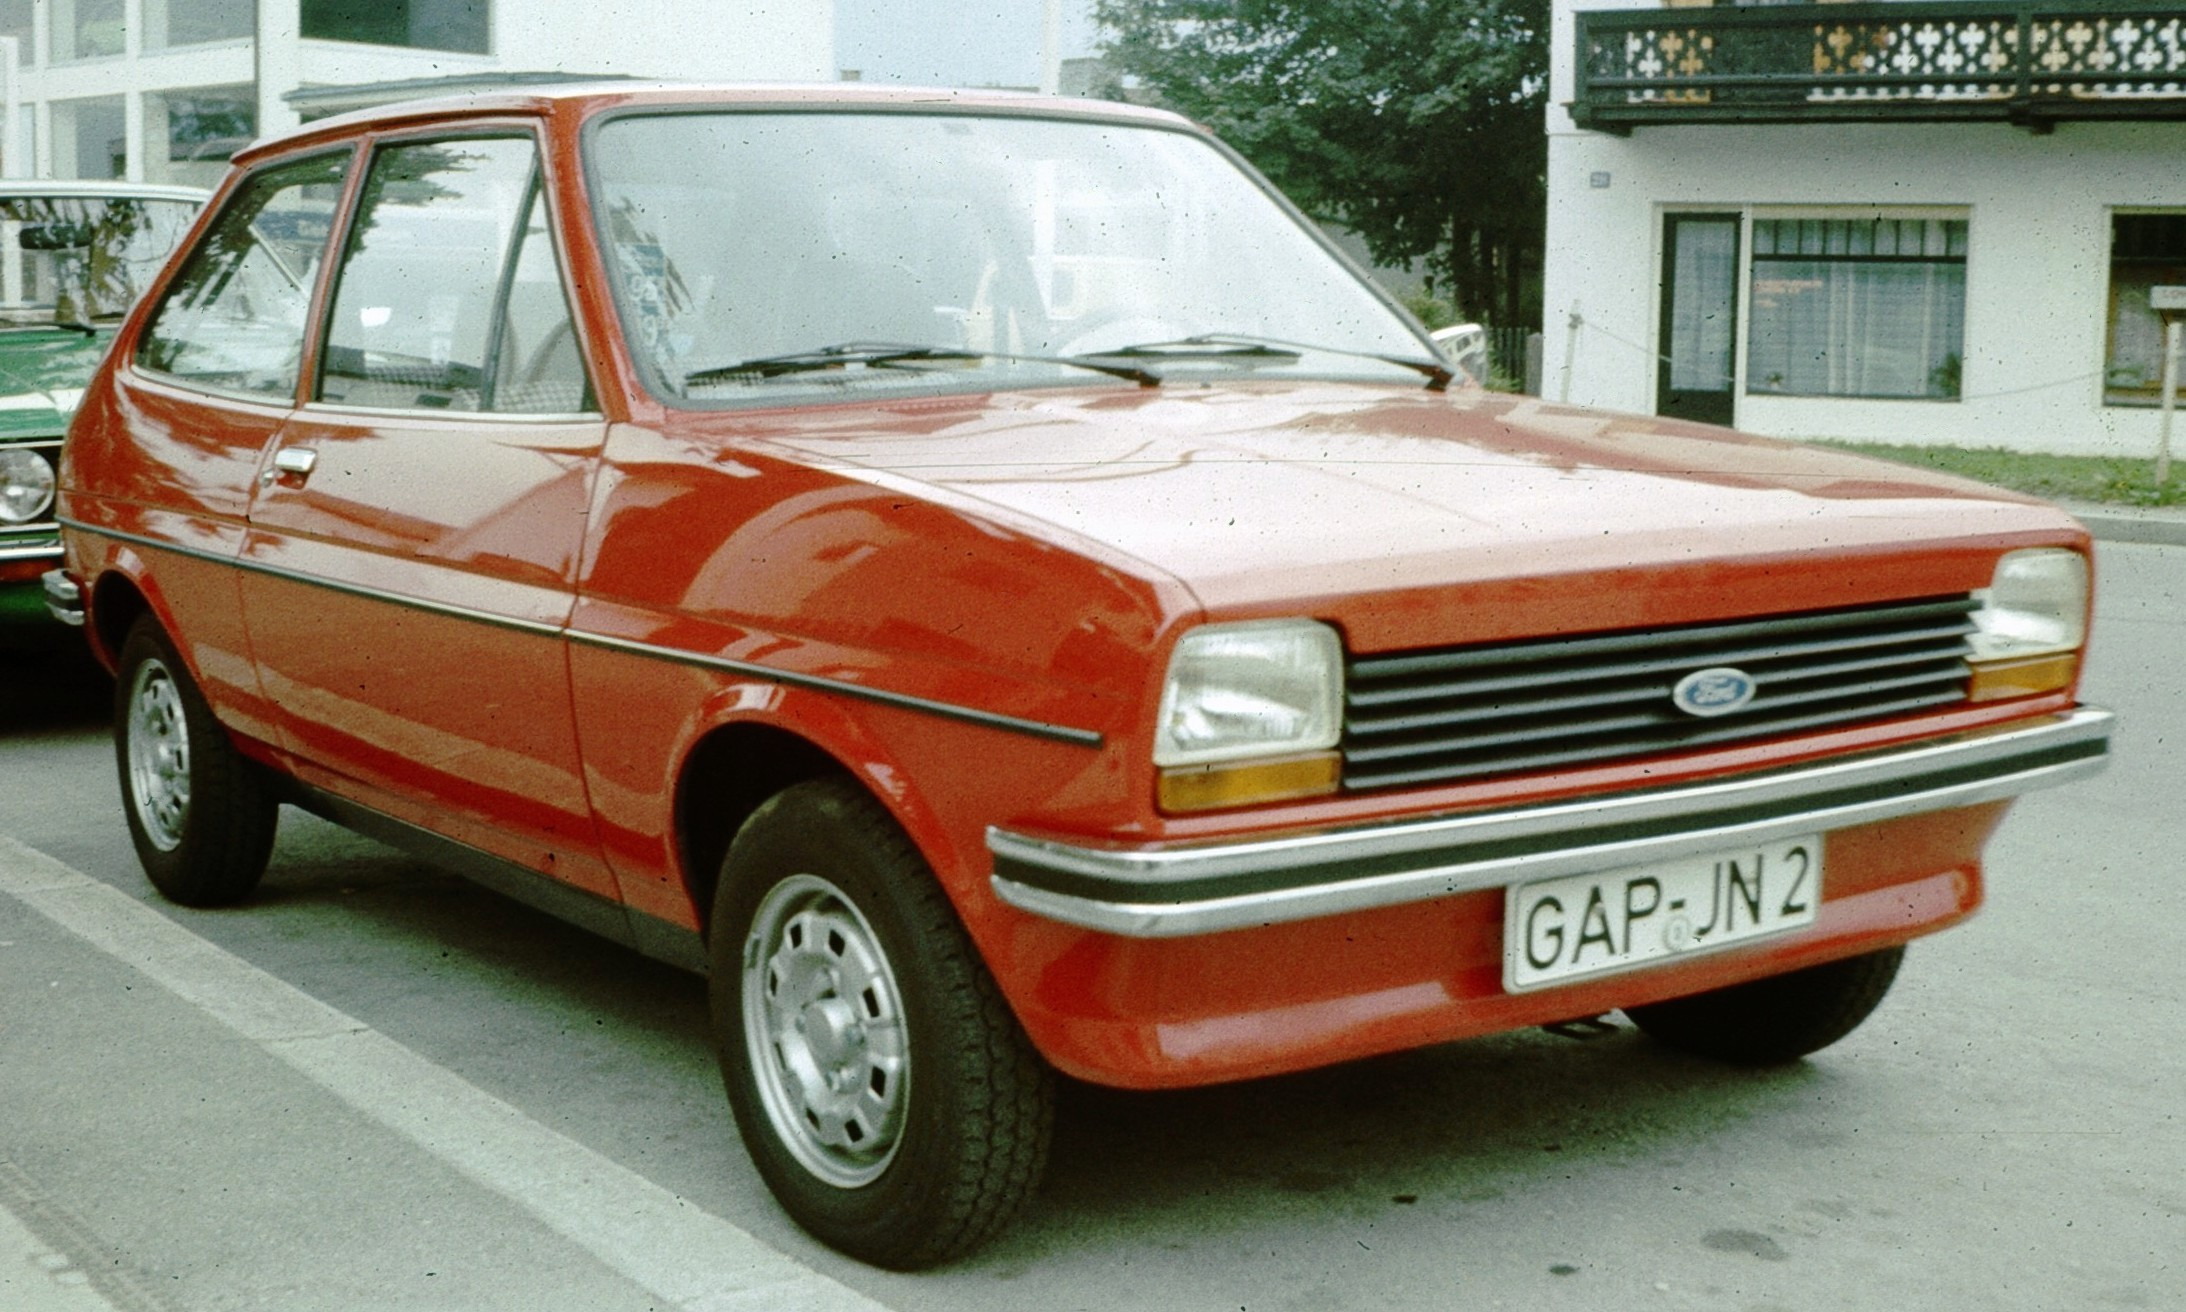sedan: (61, 80, 2122, 1268)
